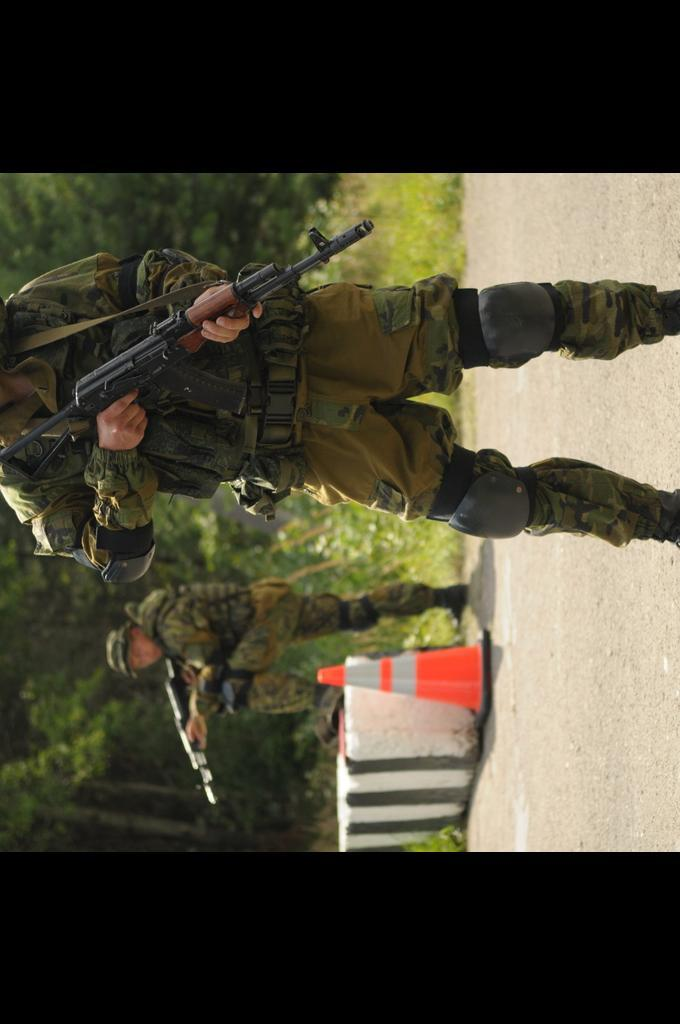gun: (6, 208, 404, 494), (163, 633, 228, 811)
